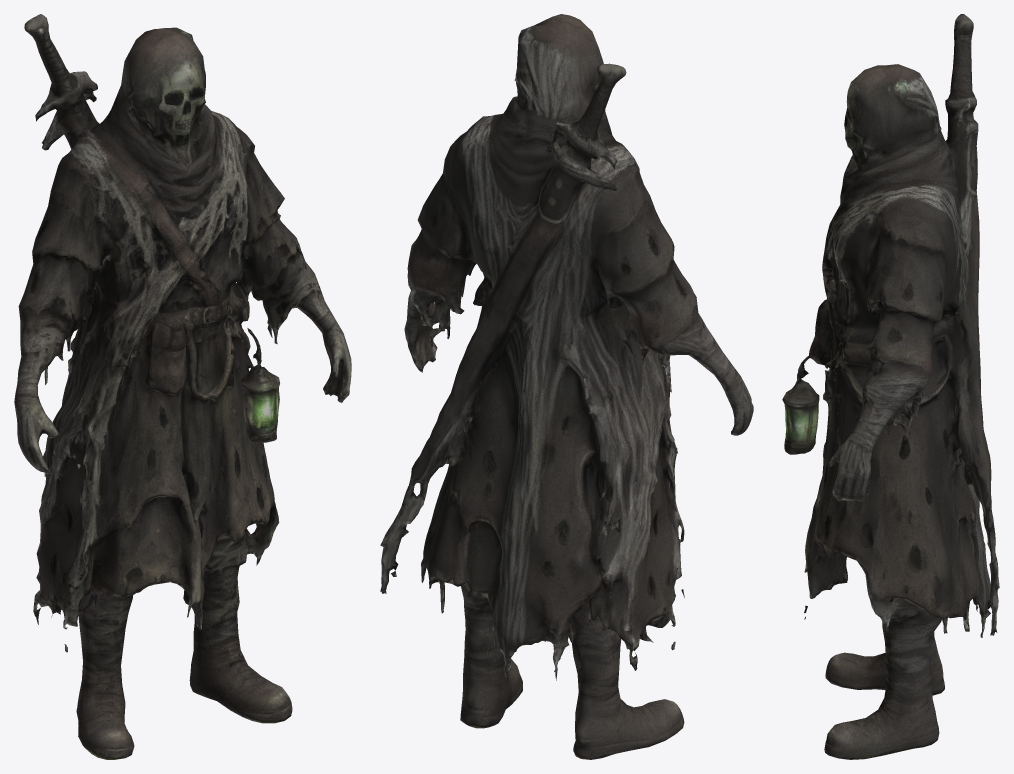
File: gravedigger-meshy.glb
3 renders of one model, left to right at view 1: azimuth 30°, elevation 25°; view 2: azimuth 150°, elevation 25°; view 3: azimuth 270°, elevation 25°, orthographic. The views are drawn at different scales.
Bounding box in the file's own units: 0.9977 × 2 × 0.6008.
Materials: 1 (1 with a texture image).
